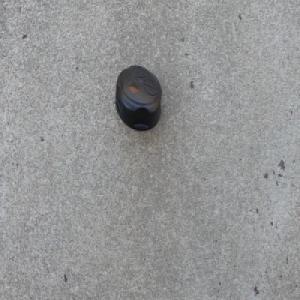FuelCap: (114, 63, 162, 134)
